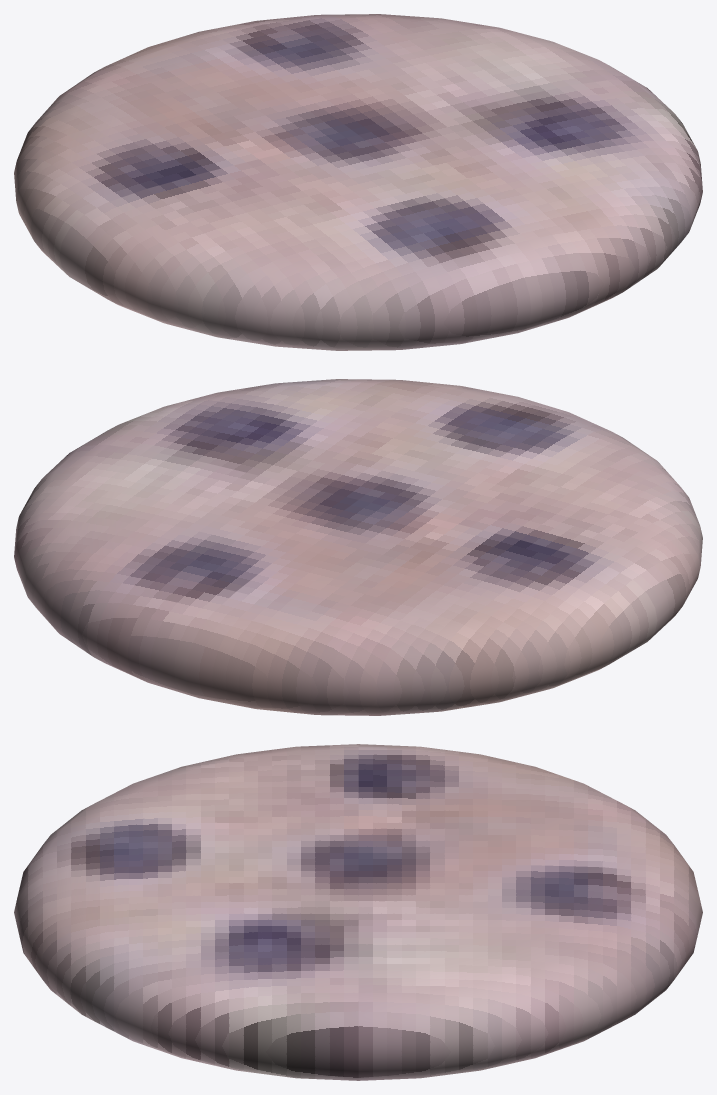
The model's file is WhitePiece.obj.
The picture shows the model from 3 angles, top to bottom: view 1: azimuth 30°, elevation 25°; view 2: azimuth 150°, elevation 25°; view 3: azimuth 270°, elevation 25°; orthographic projection.
Visible parts, largest first — view 1: White_Piece_Sphere; view 2: White_Piece_Sphere; view 3: White_Piece_Sphere.
Part boxes in pixels (bbox=[...]): White_Piece_Sphere: bbox=[14, 14, 702, 350]; White_Piece_Sphere: bbox=[14, 379, 702, 715]; White_Piece_Sphere: bbox=[14, 744, 702, 1080].
Size of the model in its own units: 0.5664 by 0.0863 by 0.5664.
Materials: 1 (1 with a texture image).
